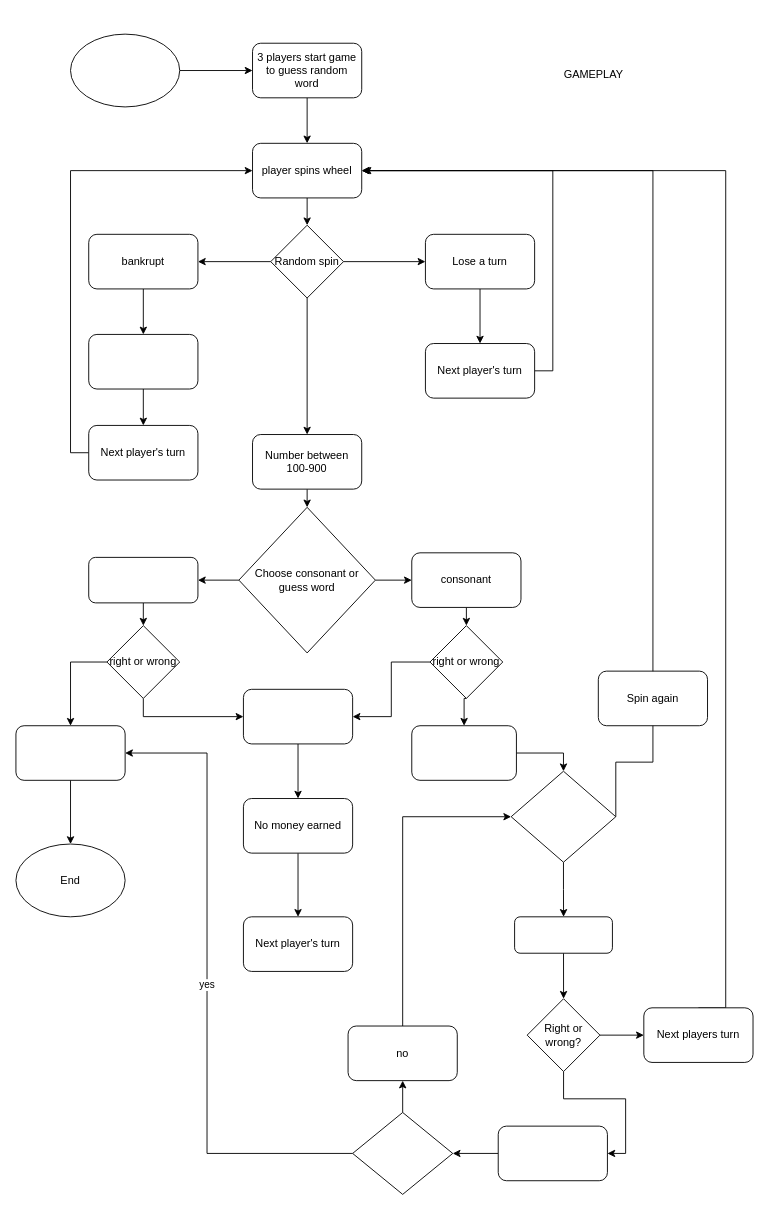
This 769x1210 diagram has some shape labels left out. Each missing label, with the centre of its shape:
Pay 250. Buy vowel: point 563,934
Player balance = 0: point 143,361
right: point 552,1153
Right. Earned amount rolled: point 463,752
Round ends: point 70,752
Spin again or buy vowel?: point 563,816
Start: point 125,70
Word: point 143,579
Word Complete?: point 402,1153
wrong: point 298,716
